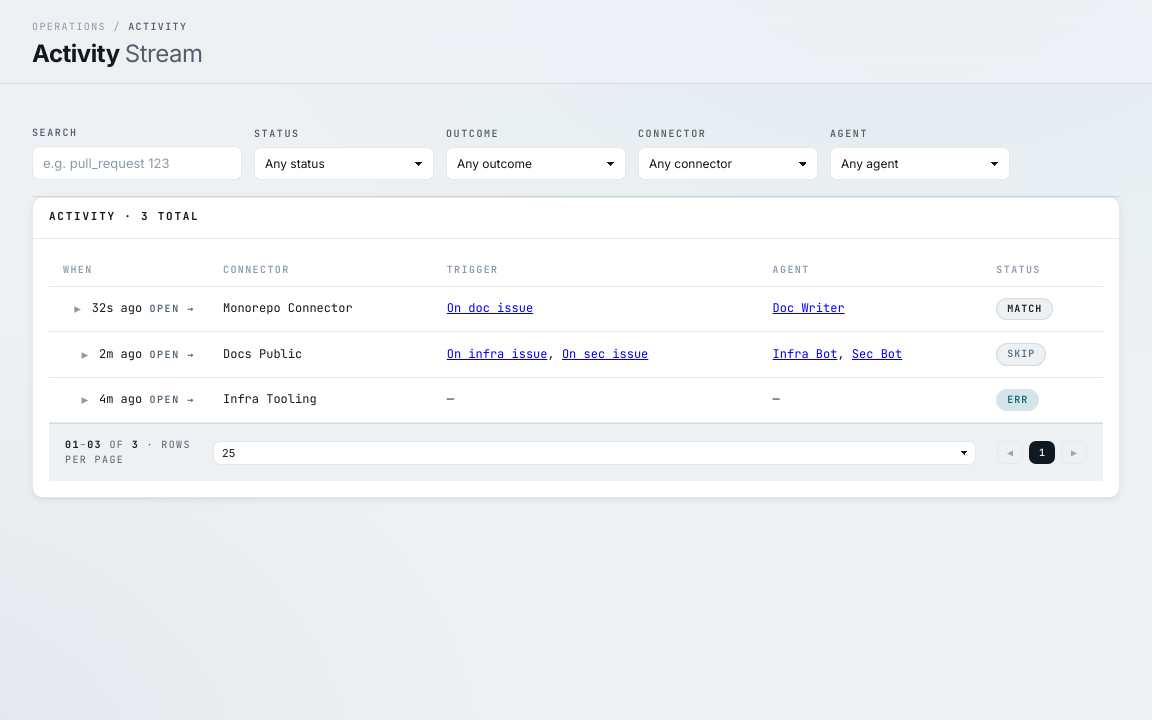
Test: Activity › search combines with status filter
Expected: the link with aria-label "Open event e1" is shown, [49,286,1103,332]
Select "Matched" in the dropdown named "filter by status" at (344, 164), box [254,147,434,180]
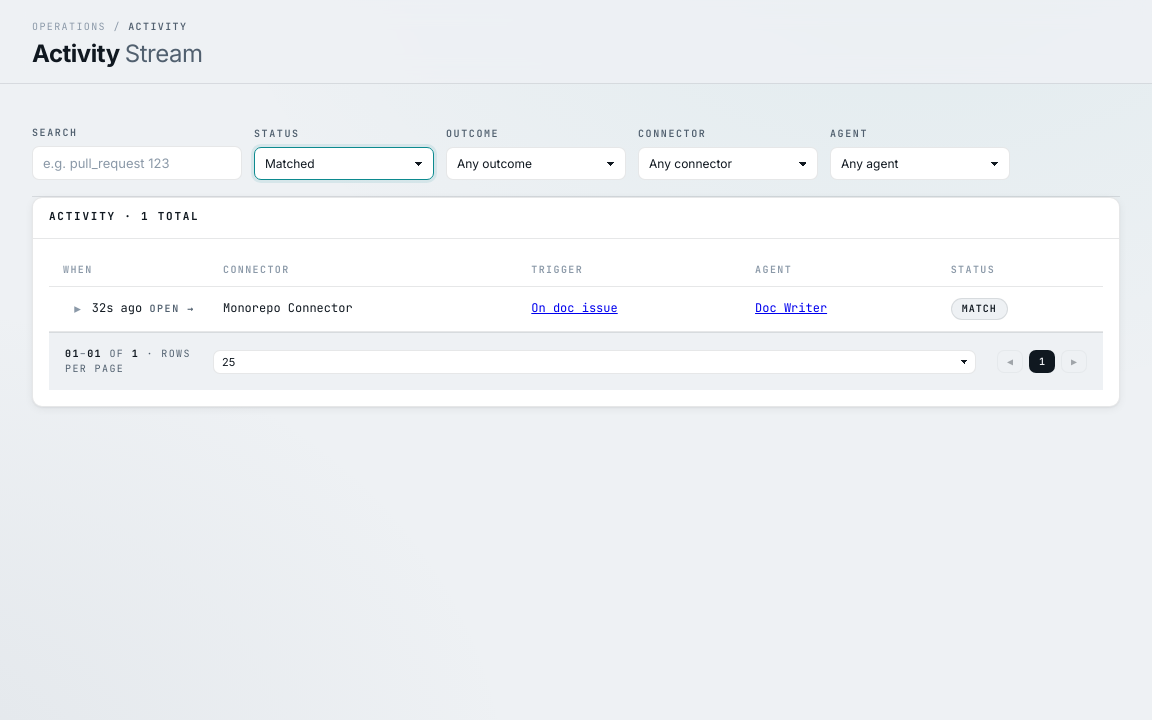
# Then search for something in the error event's payload
Type "push" into the field named "search events" at (137, 163), box [32,146,242,180]
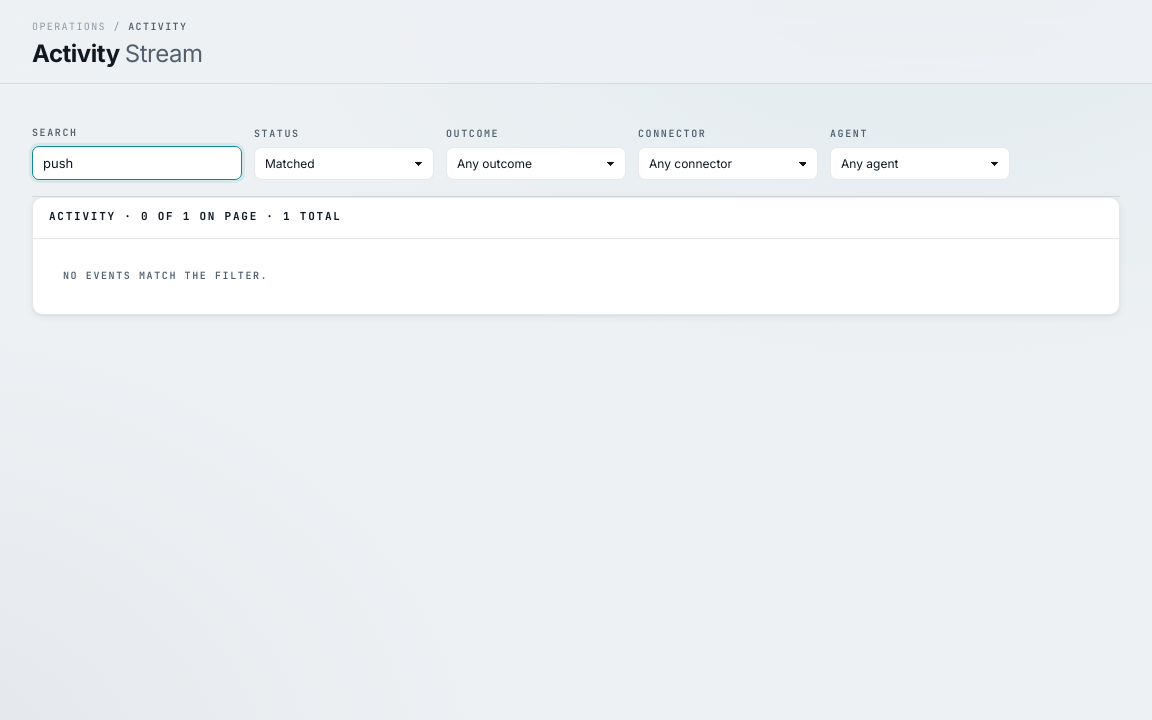
Expected: the row "When Connector Trigger Agent Status" is gone
Expected: the text "No events match the filter." is shown, [63,269,268,282]
